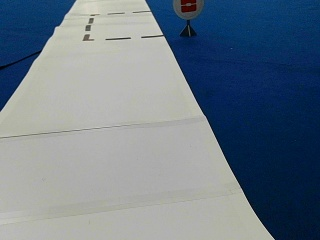company: (173, 0, 203, 19)
